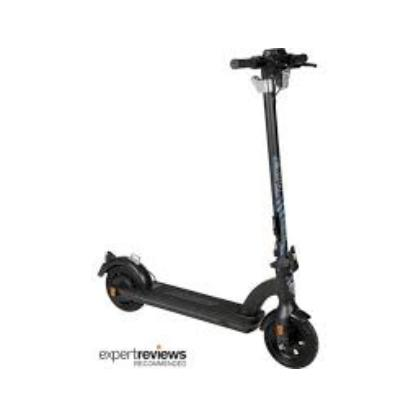bike: (97, 47, 322, 370)
